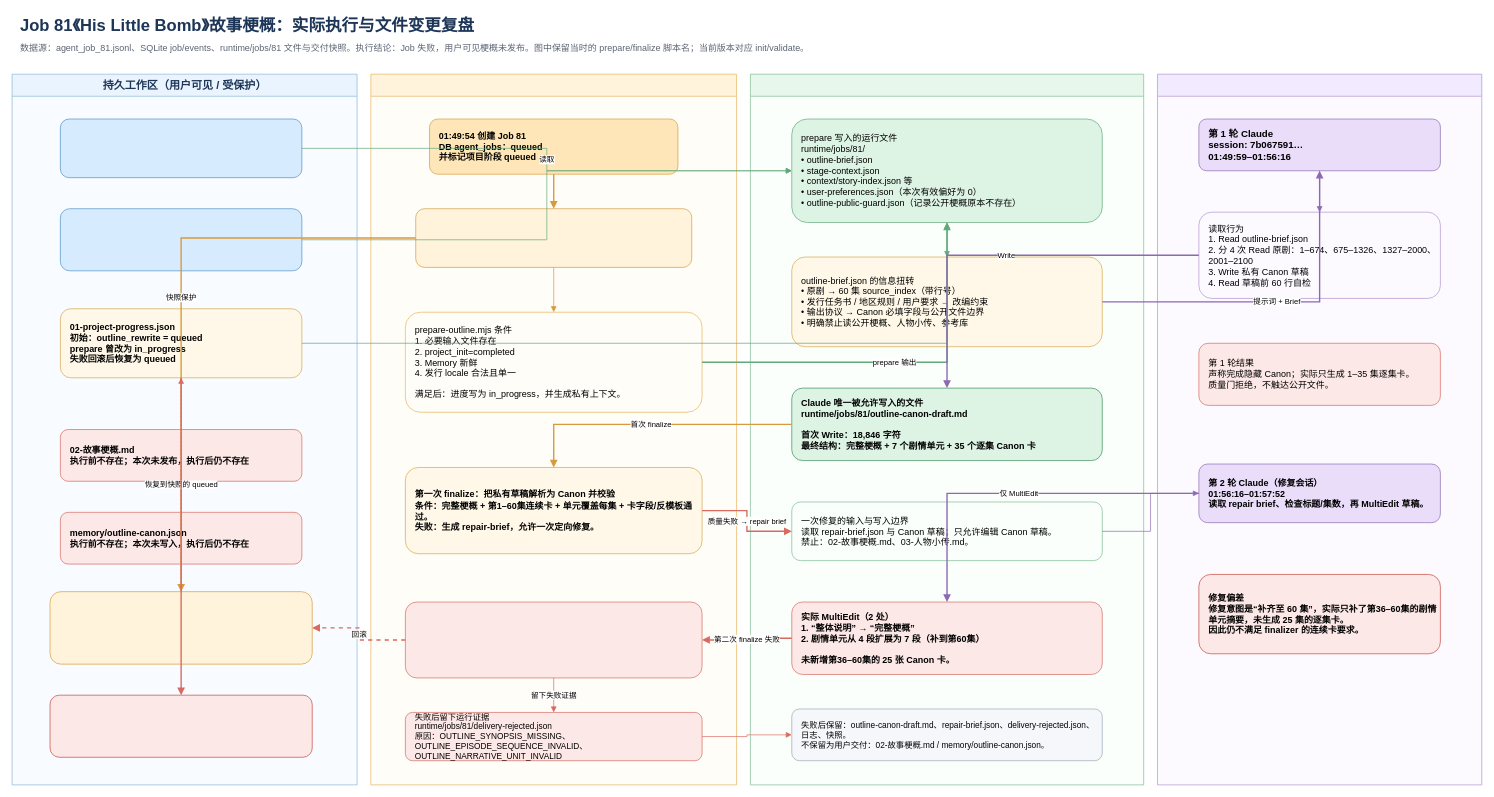
Some shapes in this 1494 by 797 pixel diagram are drawn without their labels. Here are the shapes that lost their labels. From the top down, the box of each, then its label:
(60, 118, 302, 178): 01-国内原始剧本.md 事实源，共约 2,100 行 本次被完整读取：1–2100 行
(60, 208, 302, 271): 01-user-input.json 北美 / en-US / TikTok / 60 集 补充要求：不再做文化映射，精细优化内容
(415, 208, 692, 267): 01:49:55 任务开始 DB job：queued → running 创建交付快照，禁止未通过内容进入用户文件
(370, 73, 737, 785): 后端编排与质量门
(750, 73, 1144, 785): Job 81 私有运行态（失败后仍保留）
(1157, 73, 1482, 785): Claude Code（两轮）
(49, 591, 312, 664): delivery-snapshot/ 开始前备份 01-project-progress、原剧、用户输入、Memory 及拟发布文件。 失败时用它恢复持久文件。
(405, 601, 702, 678): 第二次 finalize 仍未通过 原因：仅有第1–35集卡；第36–60集只有“剧情单元描述”，没有逐集卡。 → QUALITY_GATE → 回滚交付快照。
(49, 694, 312, 757): 最终可见状态（实际） DB：agent_jobs #81 = failed / QUALITY_GATE 工作区进度：仍为 queued 公开梗概：不存在
